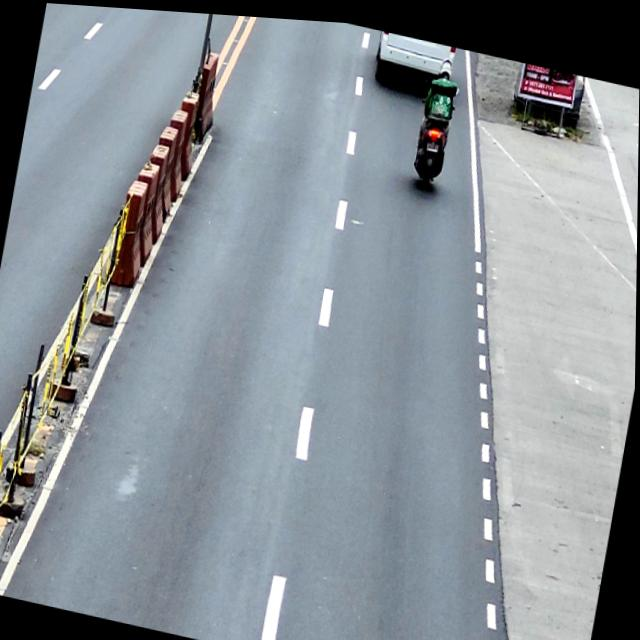License-Plate: (427, 135, 440, 147)
Motorcycle: (408, 71, 460, 187)
